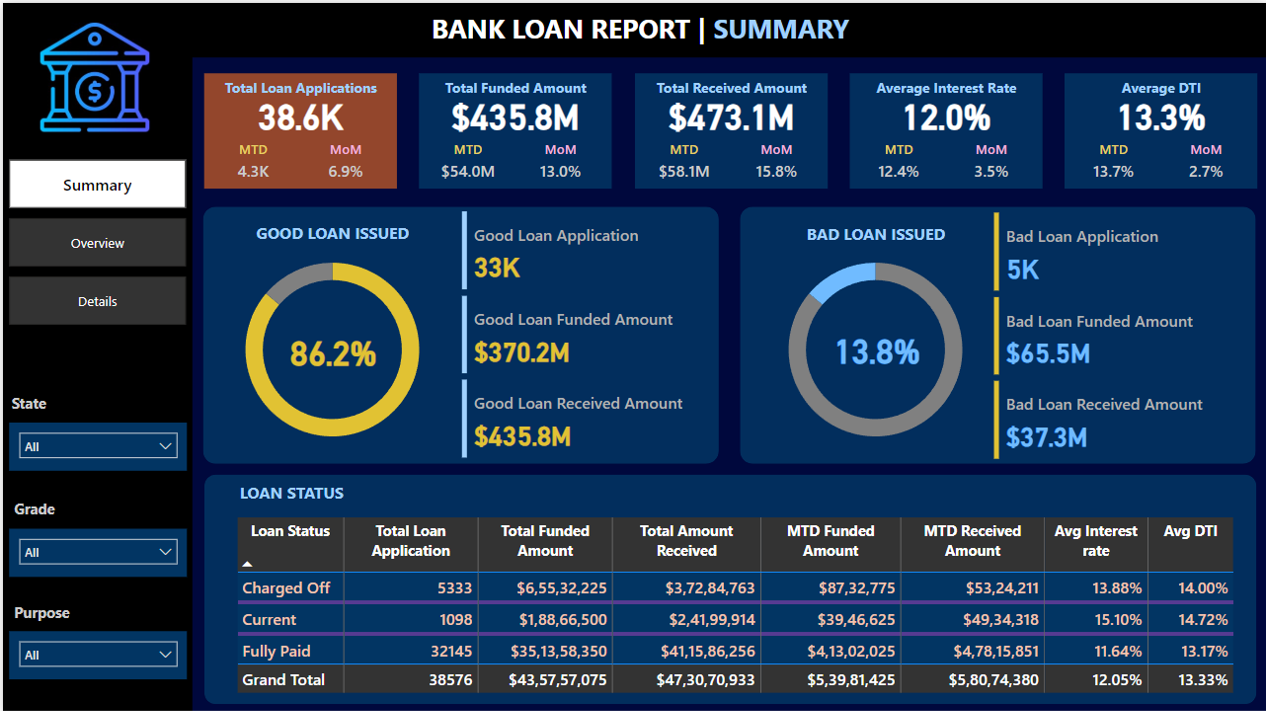

This screenshot's page, from the dashboard's own definition file:
{"tool":"powerbi","page":{"name":"Summary","canvas":[1280,720],"ordinal":0},"visuals":[{"type":"shape","box":[203.9,71.2,195.4,117],"z":0,"group":"g1"},{"type":"shape","box":[421.7,71.2,195.4,117],"z":0,"group":"g2"},{"type":"shape","box":[639.4,71.2,195.4,117],"z":0,"group":"g3"},{"type":"shape","box":[857.2,71.2,195.4,117],"z":0,"group":"g4"},{"type":"shape","box":[1074.9,71.2,195.4,117],"z":0,"group":"g5"},{"type":"shape","box":[204.3,477.1,1065.7,232.9],"z":0},{"type":"card","fields":{"Values":["bank_loan bank_loan_data.Total Loan Application"]},"box":[203.9,85.7,195.4,53.1],"z":1000,"group":"g1"},{"type":"card","fields":{"Values":["bank_loan bank_loan_data.Total Funded Amount"]},"box":[421.7,85.7,195.4,53.1],"z":1000,"group":"g2"},{"type":"card","fields":{"Values":["bank_loan bank_loan_data.Total Amount Received"]},"box":[639.4,85.7,195.4,53.1],"z":1000,"group":"g3"},{"type":"card","fields":{"Values":["bank_loan bank_loan_data.Avg int rate"]},"box":[857.2,85.7,195.4,53.1],"z":1000,"group":"g4"},{"type":"card","fields":{"Values":["bank_loan bank_loan_data.Avg DTI"]},"box":[1074.9,85.7,195.4,53.1],"z":1000,"group":"g5"},{"type":"shape","box":[202.7,206.3,522.4,260.6],"z":1000},{"type":"shape","box":[0,0,1280,55.5],"z":2000},{"type":"textbox","box":[211.1,71.2,181,39.8],"z":2000,"group":"g1"},{"type":"textbox","box":[428.9,71.2,181,39.8],"z":2000,"group":"g2"},{"type":"textbox","box":[646.6,71.2,181,39.8],"z":2000,"group":"g3"},{"type":"textbox","box":[864.4,71.2,181,39.8],"z":2000,"group":"g4"},{"type":"textbox","box":[1082.1,71.2,181,39.8],"z":2000,"group":"g5"},{"type":"shape","box":[0,55.5,191.8,664.7],"z":3000},{"type":"card","title":"MTD","fields":{"Values":["bank_loan bank_loan_data.MTD Loan Application"]},"box":[212.3,138.8,82,49.5],"z":3000,"group":"g1"},{"type":"card","title":"MTD","fields":{"Values":["bank_loan bank_loan_data.MTD Funded Amount"]},"box":[430.1,138.8,82,49.5],"z":3000,"group":"g2"},{"type":"card","title":"MTD","fields":{"Values":["bank_loan bank_loan_data.MTD Received Amount"]},"box":[647.8,138.8,82,49.5],"z":3000,"group":"g3"},{"type":"card","title":"MTD","fields":{"Values":["bank_loan bank_loan_data.MTD Avg int rate"]},"box":[865.6,138.8,82,49.5],"z":3000,"group":"g4"},{"type":"card","title":"MTD","fields":{"Values":["bank_loan bank_loan_data.MTD DTI"]},"box":[1083.3,138.8,82,49.5],"z":3000,"group":"g5"},{"type":"card","title":"MoM","fields":{"Values":["bank_loan bank_loan_data.MoM Loan Application"]},"box":[306.4,138.8,82,49.5],"z":4000,"group":"g1"},{"type":"card","title":"MoM","fields":{"Values":["bank_loan bank_loan_data.MoM Funded Apllication"]},"box":[524.2,138.8,82,49.5],"z":4000,"group":"g2"},{"type":"card","title":"MoM","fields":{"Values":["bank_loan bank_loan_data.MoM Received Amount"]},"box":[741.9,138.8,82,49.5],"z":4000,"group":"g3"},{"type":"card","title":"MoM","fields":{"Values":["bank_loan bank_loan_data.MoM Avg int rate"]},"box":[959.7,138.8,82,49.5],"z":4000,"group":"g4"},{"type":"card","title":"MoM","fields":{"Values":["bank_loan bank_loan_data.MoM Avg DTI"]},"box":[1177.4,138.8,82,49.5],"z":4000,"group":"g5"},{"type":"textbox","box":[228.6,480,127.1,40],"z":4000},{"type":"card","fields":{"Values":["bank_loan bank_loan_data.Good Loan Percentage"]},"box":[270.2,325.7,129.1,53.1],"z":5000},{"type":"donutChart","fields":{"Category":["bank_loan bank_loan_data.Good v Bad Loan"],"Y":["bank_loan bank_loan_data.Total Loan Application"]},"box":[208.6,235.7,250,230],"z":6000},{"type":"textbox","box":[428.3,2.4,447.6,49.5],"z":7000},{"type":"group","id":"g1","title":"Group 1","box":[203.9,71.2,195.4,117],"z":8000},{"type":"group","id":"g2","title":"Group 1","box":[421.7,71.2,195.4,117],"z":9000},{"type":"group","id":"g3","title":"Group 1","box":[639.4,71.2,195.4,117],"z":10000},{"type":"group","id":"g4","title":"Group 1","box":[857.2,71.2,195.4,117],"z":11000},{"type":"group","id":"g5","title":"Group 1","box":[1074.9,71.2,195.4,117],"z":12000},{"type":"shape","box":[746.8,206.3,522.4,260.6],"z":13000},{"type":"cardVisual","fields":{"Data":["bank_loan bank_loan_data.Good Loan Application","bank_loan bank_loan_data.Good Loan Funded","bank_loan bank_loan_data.Good Loan Received"]},"box":[460,206.7,265,260],"z":14000},{"type":"donutChart","fields":{"Category":["bank_loan bank_loan_data.Good v Bad Loan"],"Y":["bank_loan bank_loan_data.Total Loan Application"]},"box":[758.6,235.7,250,230],"z":15000},{"type":"card","fields":{"Values":["bank_loan bank_loan_data.Bad Loan Percentage"]},"box":[820,324.3,130,52.9],"z":16000},{"type":"cardVisual","fields":{"Data":["bank_loan bank_loan_data.Bad Loan Application","bank_loan bank_loan_data.Bad Loan Funded Amount","bank_loan bank_loan_data.Bad Loan Received Amount"]},"box":[998.6,207.1,265.7,260],"z":17000},{"type":"textbox","box":[792.9,217.1,182.9,40],"z":18000},{"type":"tableEx","fields":{"Values":["bank_loan bank_loan_data.loan_status","bank_loan bank_loan_data.Total Loan Application","bank_loan bank_loan_data.Total Funded Amount","bank_loan bank_loan_data.Total Amount Received","bank_loan bank_loan_data.MTD Funded Amount","bank_loan bank_loan_data.MTD Received Amount","bank_loan bank_loan_data.Avg int rate","bank_loan bank_loan_data.Avg DTI"]},"box":[231.4,515.7,1024.3,194.3],"z":19000},{"type":"textbox","box":[242.9,215.7,182.9,40],"z":20000},{"type":"slicer","fields":{"Values":["bank_loan bank_loan_data.address_state"]},"box":[6,425.3,180,48.6],"z":21000},{"type":"textbox","box":[3.2,389.6,90,34.3],"z":22000},{"type":"slicer","fields":{"Values":["bank_loan bank_loan_data.grade"]},"box":[6,531.9,180,48.6],"z":23000},{"type":"textbox","box":[6,497.7,90,34.3],"z":24000},{"type":"slicer","fields":{"Values":["bank_loan bank_loan_data.purpose"]},"box":[6,636.7,180,48.6],"z":25000},{"type":"textbox","box":[6,602.5,90,34.3],"z":26000},{"type":"image","box":[25.3,0,136.3,150.8],"z":27000},{"type":"pageNavigator","box":[6,159.3,179.8,168.9],"z":28000}]}

Visuals, with their boxes in screenshot pixels (x1, y1, x2, y2), scaled from the page's 1280x720 canvas onto the 1266x711 screenshot:
shape: x1=202, y1=70, x2=395, y2=186
shape: x1=417, y1=70, x2=610, y2=186
shape: x1=632, y1=70, x2=826, y2=186
shape: x1=848, y1=70, x2=1041, y2=186
shape: x1=1063, y1=70, x2=1256, y2=186
shape: x1=202, y1=471, x2=1256, y2=701
card - bank_loan bank_loan_data.Total Loan Application: x1=202, y1=85, x2=395, y2=137
card - bank_loan bank_loan_data.Total Funded Amount: x1=417, y1=85, x2=610, y2=137
card - bank_loan bank_loan_data.Total Amount Received: x1=632, y1=85, x2=826, y2=137
card - bank_loan bank_loan_data.Avg int rate: x1=848, y1=85, x2=1041, y2=137
card - bank_loan bank_loan_data.Avg DTI: x1=1063, y1=85, x2=1256, y2=137
shape: x1=200, y1=204, x2=717, y2=461
shape: x1=0, y1=0, x2=1265, y2=55
textbox: x1=209, y1=70, x2=388, y2=110
textbox: x1=424, y1=70, x2=603, y2=110
textbox: x1=640, y1=70, x2=819, y2=110
textbox: x1=855, y1=70, x2=1034, y2=110
textbox: x1=1070, y1=70, x2=1249, y2=110
shape: x1=0, y1=55, x2=190, y2=710
"MTD" card: x1=210, y1=137, x2=291, y2=186
"MTD" card: x1=425, y1=137, x2=506, y2=186
"MTD" card: x1=641, y1=137, x2=722, y2=186
"MTD" card: x1=856, y1=137, x2=937, y2=186
"MTD" card: x1=1071, y1=137, x2=1153, y2=186
"MoM" card: x1=303, y1=137, x2=384, y2=186
"MoM" card: x1=518, y1=137, x2=600, y2=186
"MoM" card: x1=734, y1=137, x2=815, y2=186
"MoM" card: x1=949, y1=137, x2=1030, y2=186
"MoM" card: x1=1165, y1=137, x2=1246, y2=186
textbox: x1=226, y1=474, x2=352, y2=514
card - bank_loan bank_loan_data.Good Loan Percentage: x1=267, y1=322, x2=395, y2=374
donutChart - bank_loan bank_loan_data.Good v Bad Loan x bank_loan bank_loan_data.Total Loan Application: x1=206, y1=233, x2=454, y2=460
textbox: x1=424, y1=2, x2=866, y2=51
"Group 1" group: x1=202, y1=70, x2=395, y2=186
"Group 1" group: x1=417, y1=70, x2=610, y2=186
"Group 1" group: x1=632, y1=70, x2=826, y2=186
"Group 1" group: x1=848, y1=70, x2=1041, y2=186
"Group 1" group: x1=1063, y1=70, x2=1256, y2=186
shape: x1=739, y1=204, x2=1255, y2=461
cardVisual - bank_loan bank_loan_data.Good Loan Application x bank_loan bank_loan_data.Good Loan Funded: x1=455, y1=204, x2=717, y2=461
donutChart - bank_loan bank_loan_data.Good v Bad Loan x bank_loan bank_loan_data.Total Loan Application: x1=750, y1=233, x2=998, y2=460
card - bank_loan bank_loan_data.Bad Loan Percentage: x1=811, y1=320, x2=940, y2=372
cardVisual - bank_loan bank_loan_data.Bad Loan Application x bank_loan bank_loan_data.Bad Loan Funded Amount: x1=988, y1=205, x2=1250, y2=461
textbox: x1=784, y1=214, x2=965, y2=254
tableEx - bank_loan bank_loan_data.loan_status x bank_loan bank_loan_data.Total Loan Application: x1=229, y1=509, x2=1242, y2=701
textbox: x1=240, y1=213, x2=421, y2=253
slicer - bank_loan bank_loan_data.address_state: x1=6, y1=420, x2=184, y2=468
textbox: x1=3, y1=385, x2=92, y2=419
slicer - bank_loan bank_loan_data.grade: x1=6, y1=525, x2=184, y2=573
textbox: x1=6, y1=491, x2=95, y2=525
slicer - bank_loan bank_loan_data.purpose: x1=6, y1=629, x2=184, y2=677
textbox: x1=6, y1=595, x2=95, y2=629
image: x1=25, y1=0, x2=160, y2=149
pageNavigator: x1=6, y1=157, x2=184, y2=324
